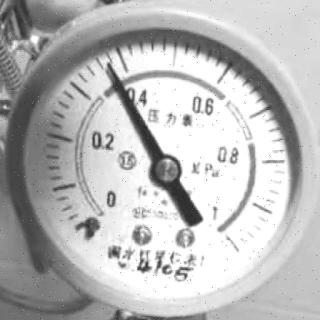gauge: (0, 0, 320, 320), (201, 204, 249, 262), (67, 209, 101, 250), (148, 153, 183, 188), (100, 58, 117, 74)
